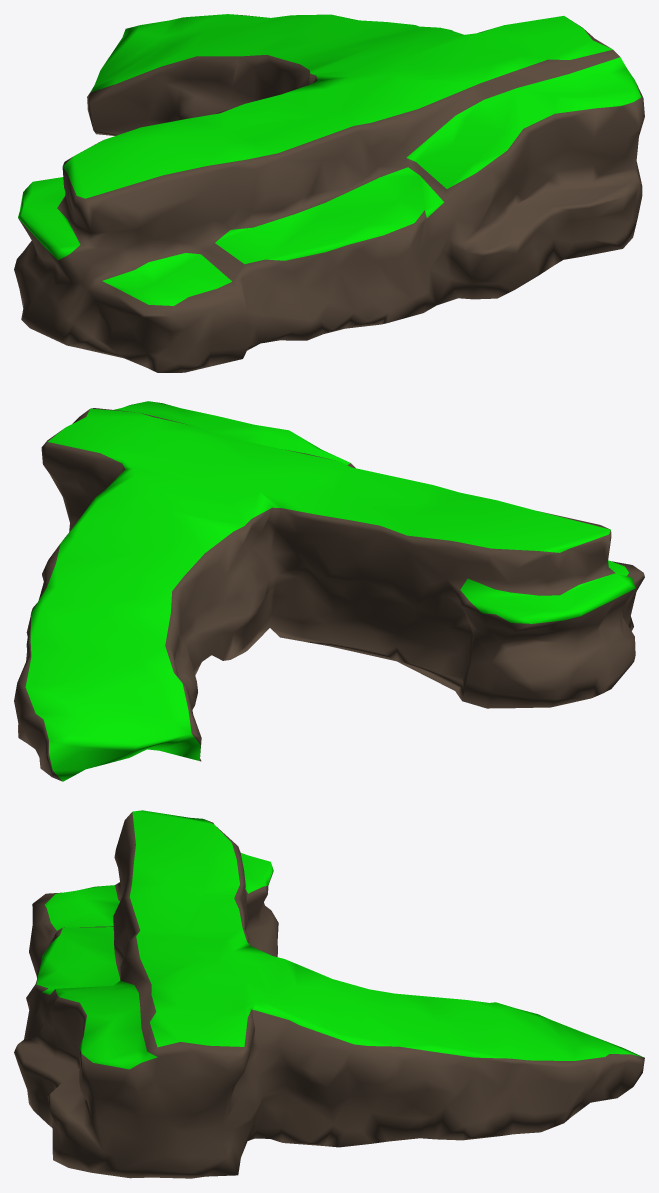
Rendered from Beach_Slope_Low.fbx.
The picture shows the model from 3 angles, top to bottom: view 1: azimuth 30°, elevation 25°; view 2: azimuth 150°, elevation 25°; view 3: azimuth 270°, elevation 25°; orthographic projection. The views are drawn at different scales.
Parts seen in each view (by area): view 1: Beach_Slope_Low; view 2: Beach_Slope_Low; view 3: Beach_Slope_Low.
Boxes of the visible parts, bbox=[...] form: Beach_Slope_Low: bbox=[14, 14, 644, 372]; Beach_Slope_Low: bbox=[14, 401, 644, 781]; Beach_Slope_Low: bbox=[14, 810, 644, 1178].
Bounding box in the file's own units: 4020 × 1085 × 4113.
